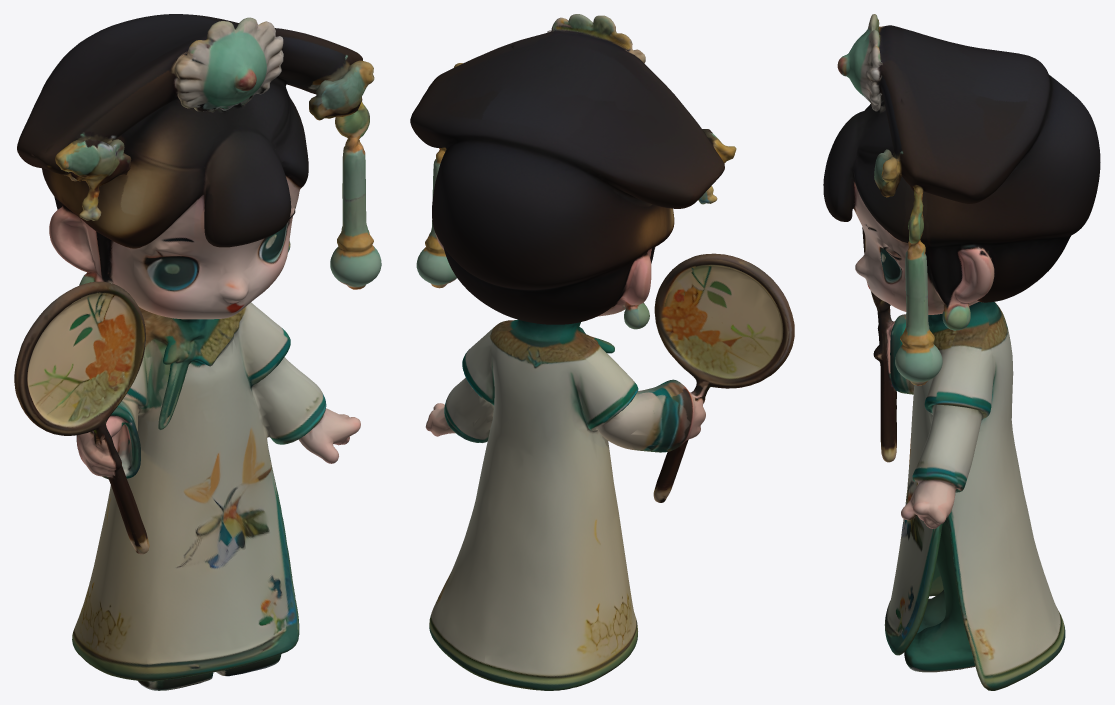
Rendered from romantex_59.glb.
3 renders of one model, left to right at view 1: azimuth 30°, elevation 25°; view 2: azimuth 150°, elevation 25°; view 3: azimuth 270°, elevation 25°, orthographic. The views are drawn at different scales.
Visible parts, largest first — view 1: texture_v130_hdr_21w_pbr_dino_11w.001; view 2: texture_v130_hdr_21w_pbr_dino_11w.001; view 3: texture_v130_hdr_21w_pbr_dino_11w.001.
Part boxes in pixels (x1=…): texture_v130_hdr_21w_pbr_dino_11w.001: x1=14, y1=14, x2=381, y2=690; texture_v130_hdr_21w_pbr_dino_11w.001: x1=410, y1=14, x2=794, y2=690; texture_v130_hdr_21w_pbr_dino_11w.001: x1=823, y1=14, x2=1100, y2=690.
Size of the model in its own units: 1.21 by 2 by 0.8079.
Materials: 1 (1 with a texture image).
